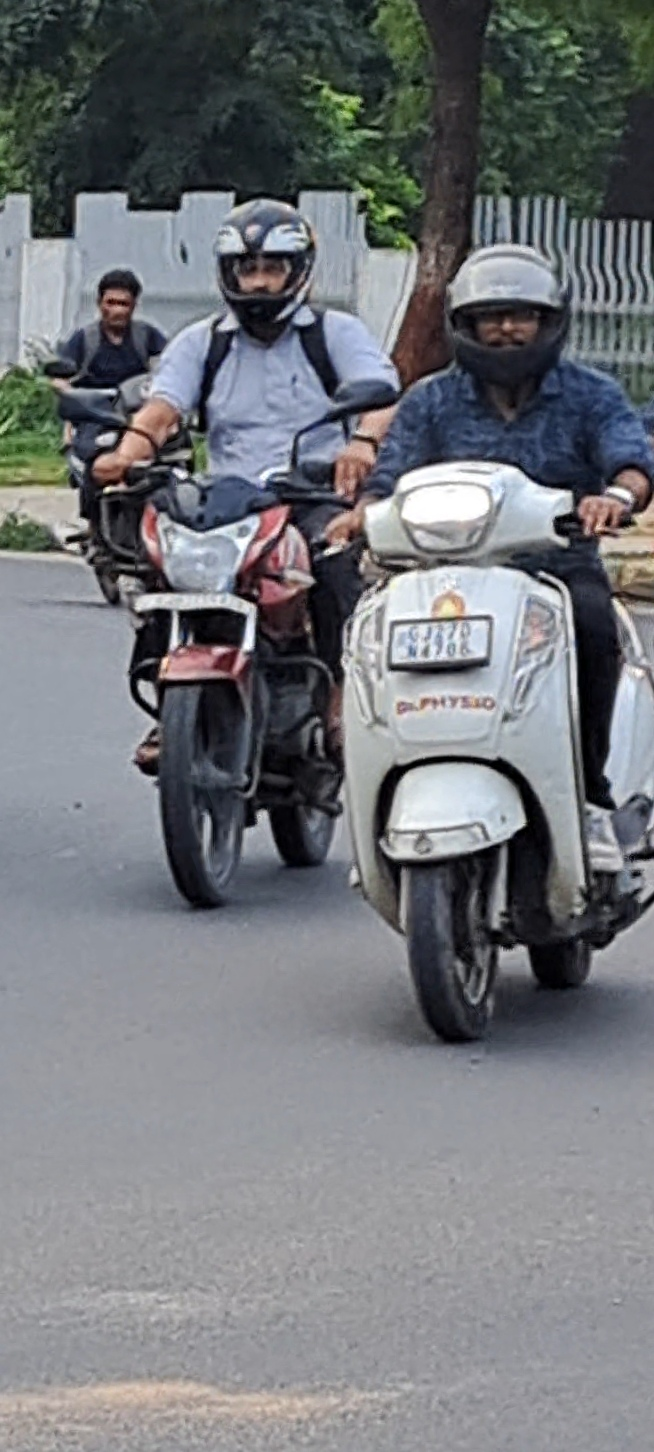BikeWithRider: (311, 231, 654, 1047), (114, 197, 393, 935), (27, 252, 210, 611)
Helmet: (425, 233, 590, 394), (201, 195, 336, 323)
NoHelmet: (82, 263, 151, 337)
